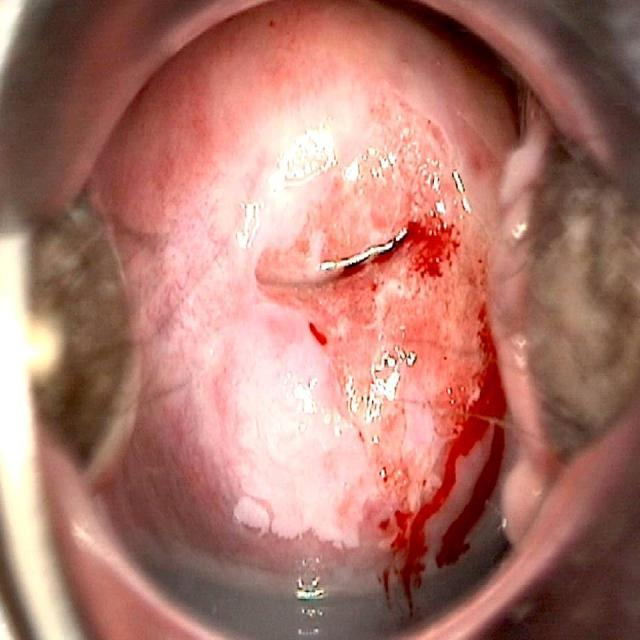cervical_lesion: (193, 96, 512, 574)
